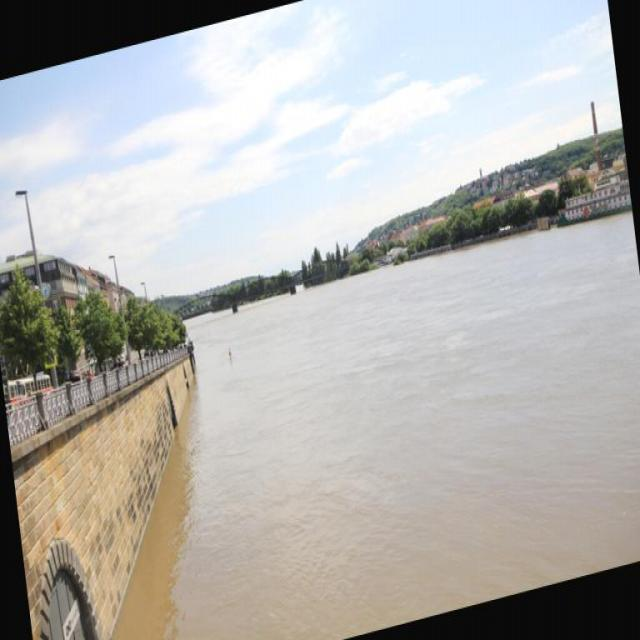flood: (125, 200, 639, 639)
